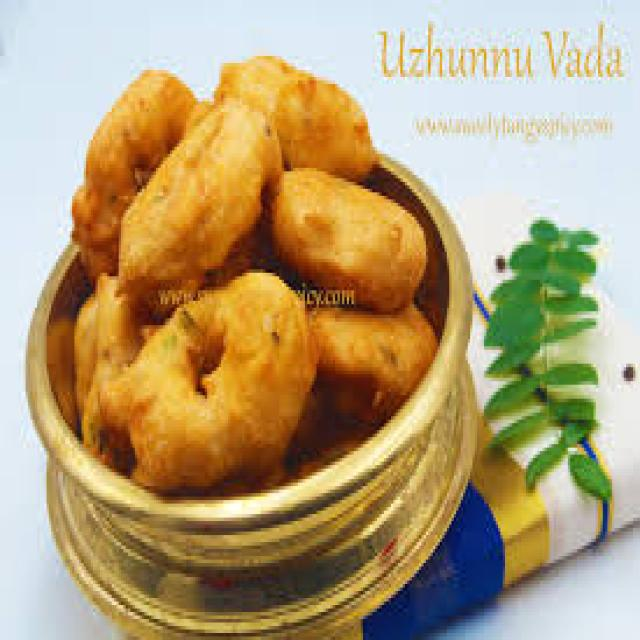MEDU VADA: (100, 273, 314, 483), (121, 101, 279, 297), (72, 70, 195, 276), (275, 168, 426, 308), (216, 56, 372, 178)
